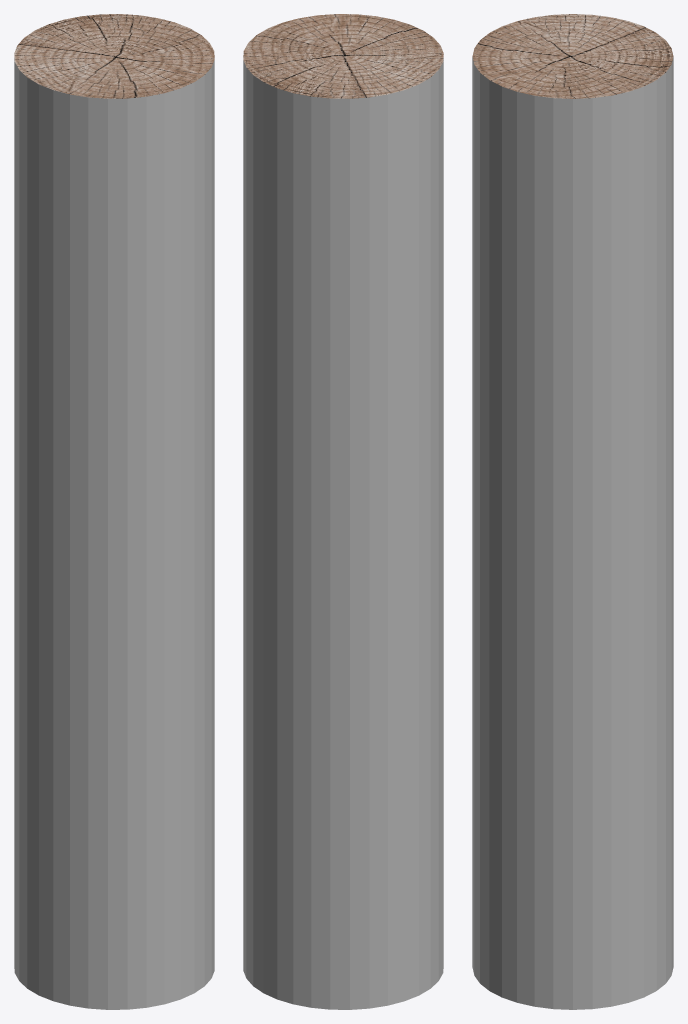
The model's file is wood.fbx.
The picture shows the model from 3 angles, left to right: view 1: azimuth 30°, elevation 25°; view 2: azimuth 150°, elevation 25°; view 3: azimuth 270°, elevation 25°; orthographic projection.
Visible parts, largest first — view 1: Cylinder; view 2: Cylinder; view 3: Cylinder.
Part boxes in pixels (bbox=[...]): Cylinder: bbox=[14, 14, 214, 1009]; Cylinder: bbox=[243, 14, 443, 1009]; Cylinder: bbox=[472, 14, 673, 1009].
Size of the model in its own units: 200 by 1000 by 200.
